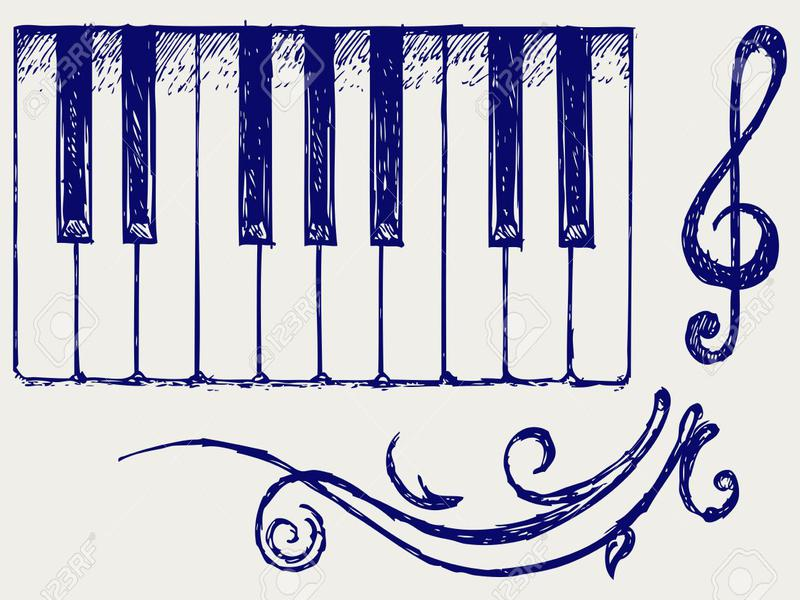piano: (12, 23, 632, 387)
